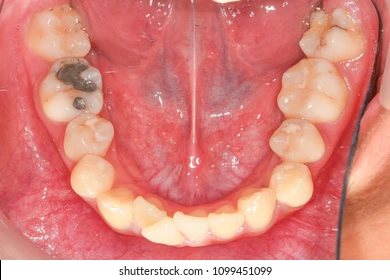LL1BC_healthy: (270, 161, 312, 206)
LL1M_healthy: (280, 60, 347, 114)
LL2BC_healthy: (271, 119, 328, 160)
LL2M_decay: (304, 10, 363, 55)
LLCI_healthy: (181, 211, 210, 243)
LLC_healthy: (240, 187, 276, 228)
LLLI_healthy: (212, 205, 245, 238)
LR1BC_healthy: (72, 158, 110, 195)
LR1M_decay: (38, 58, 104, 116)
LR2BC_healthy: (63, 116, 116, 157)
LR2M_healthy: (32, 7, 89, 55)
LRCI_healthy: (148, 212, 179, 245)
LRC_healthy: (102, 181, 135, 226)
LRLI_healthy: (130, 195, 163, 226)
